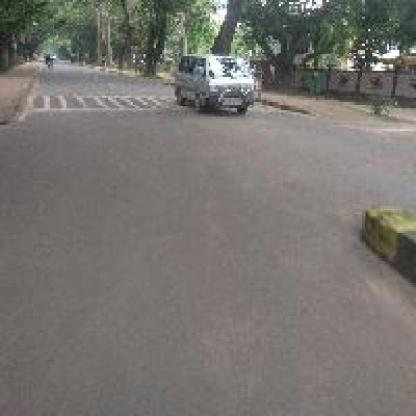Speed Bump: (21, 90, 175, 114)
